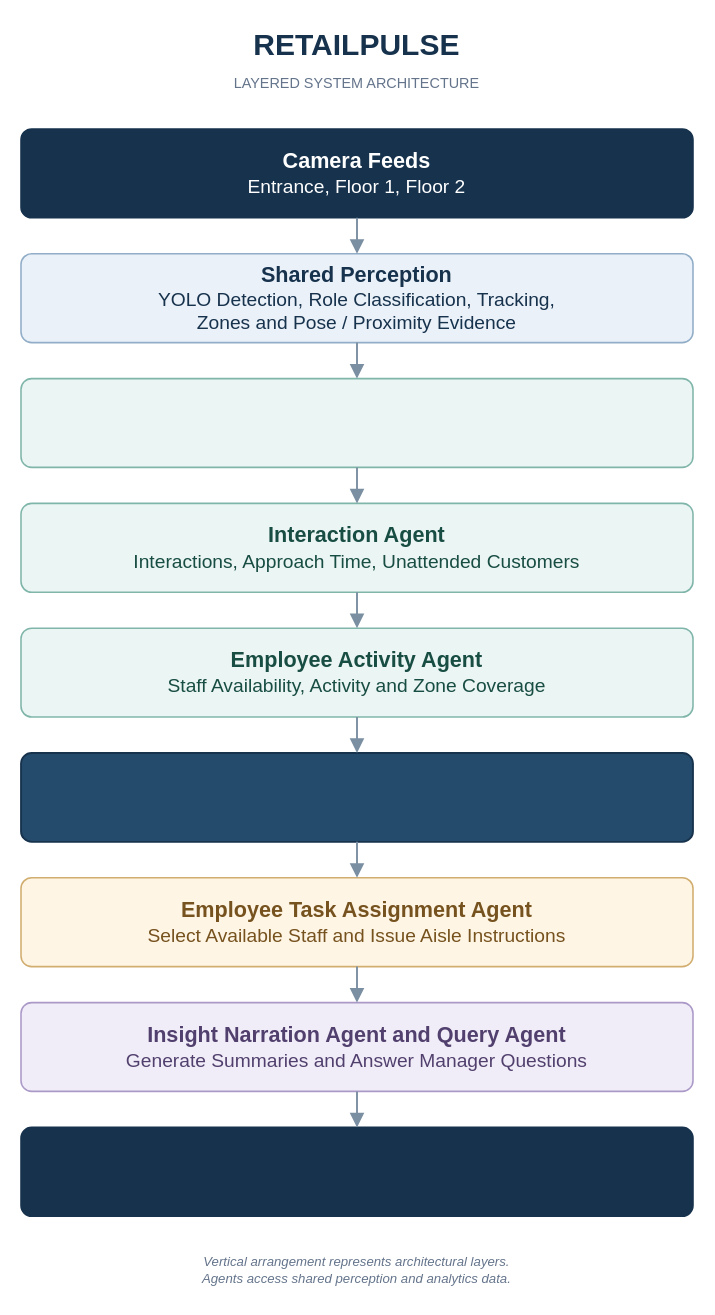
The diagram is 715 pixels wide and 1315 high, and some of its shapes have lost their labels. Here are the shapes that lost their labels. From the top down, the centre of each, then its label:
At pixel 356 422: "Customer Behavior Agent Footfall, Paths, Dwell Time, Hot and Gray Zones".
At pixel 356 797: "Orchestrator Coordinate Agents and Reconcile Shared State".
At pixel 356 1171: "Dashboard and Employee Workspace Next.js".
